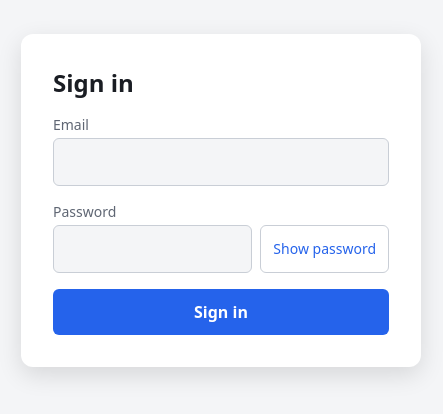
LoginPage › shows_generic_message_on_401_not_under_a_field
Type "alice@example.com" into the field labelled "Email" at (221, 162), box [53, 138, 389, 186]
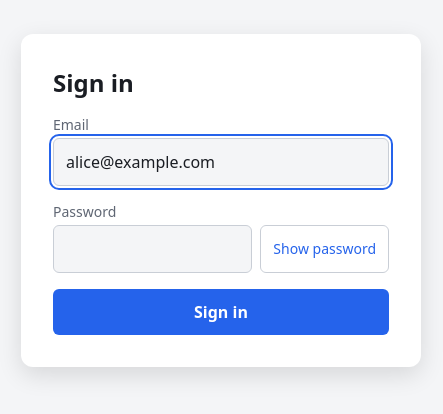
Type "Password123!" into the password field labelled "Password" at (153, 248), box [53, 224, 252, 272]
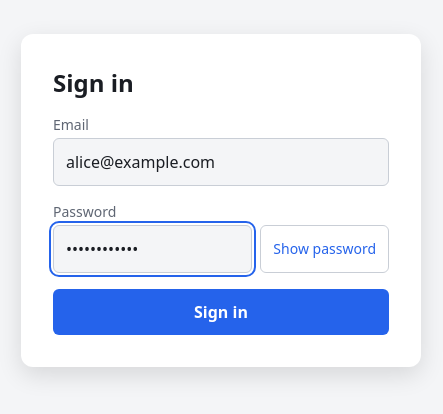
Click the button "Sign in" at (221, 312), box [53, 288, 389, 334]
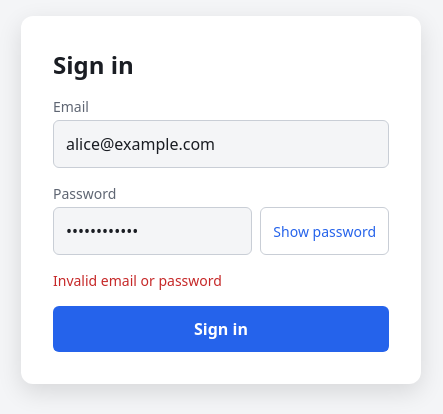
Expected: the message reads "Invalid email or password", [53, 271, 222, 290]
